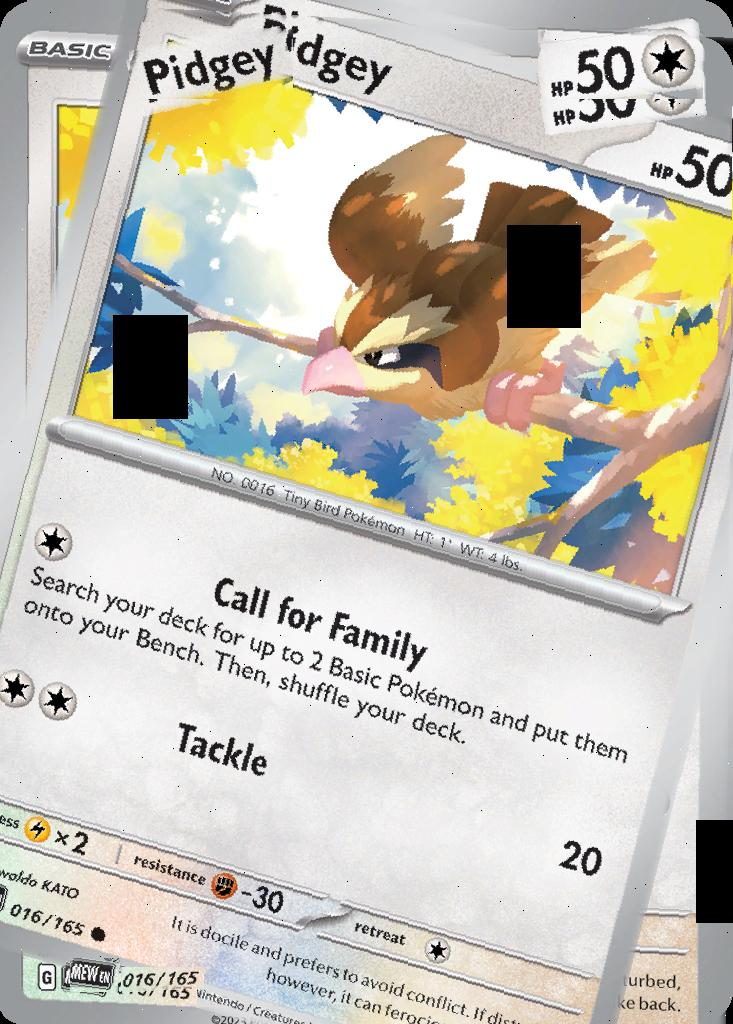card: (0, 0, 733, 1024)
hp: (538, 23, 706, 100)
name: (129, 22, 294, 100)
set num: (121, 967, 204, 993)
set symbol: (70, 959, 120, 993)
